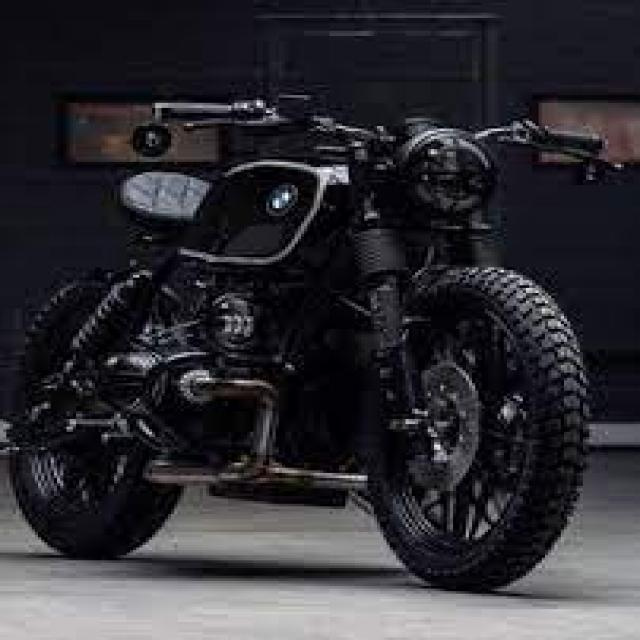Bike: (2, 100, 608, 594)
